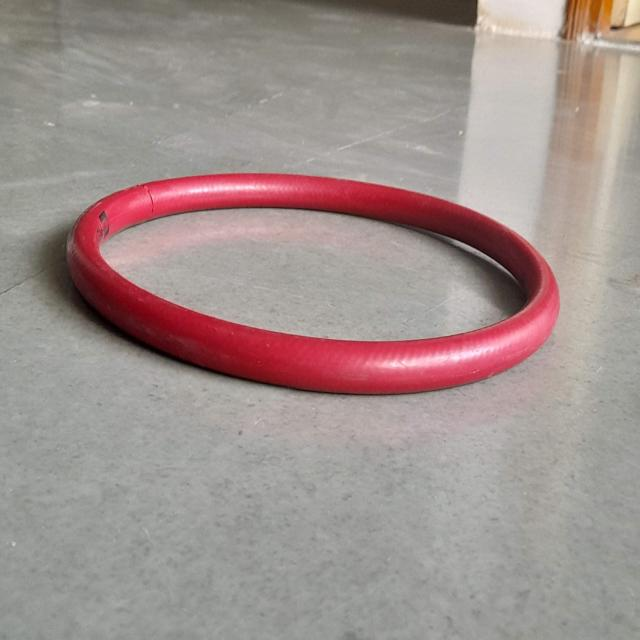daire: (67, 169, 561, 395)
